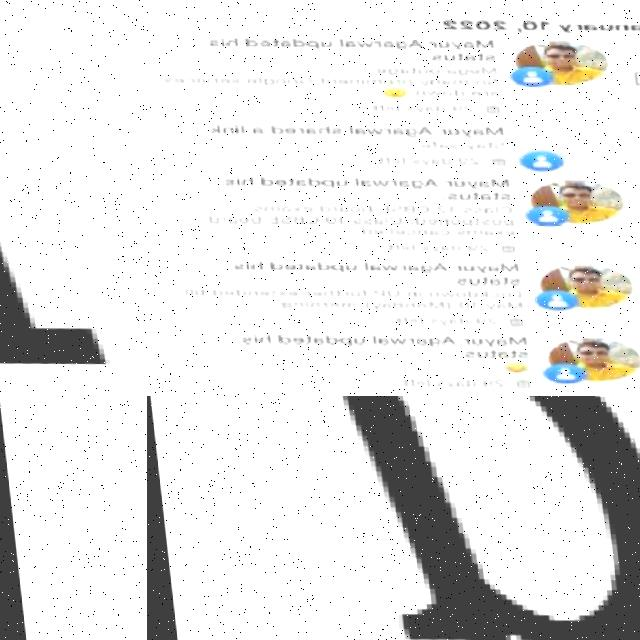0: (474, 15, 490, 26), (521, 15, 538, 25), (321, 211, 333, 221), (454, 295, 465, 305)
1: (539, 15, 551, 26), (335, 213, 342, 219), (446, 202, 452, 208), (467, 297, 473, 303)
2: (491, 15, 506, 26), (457, 15, 472, 26), (442, 16, 456, 26), (433, 200, 444, 210), (461, 101, 471, 108), (467, 152, 476, 159), (482, 312, 491, 319), (488, 375, 498, 381), (475, 239, 484, 245)
9: (454, 151, 466, 161), (477, 373, 488, 383), (463, 238, 474, 246), (449, 101, 461, 108), (471, 312, 482, 319)
D: (226, 396, 640, 640)
L: (0, 0, 112, 376)
